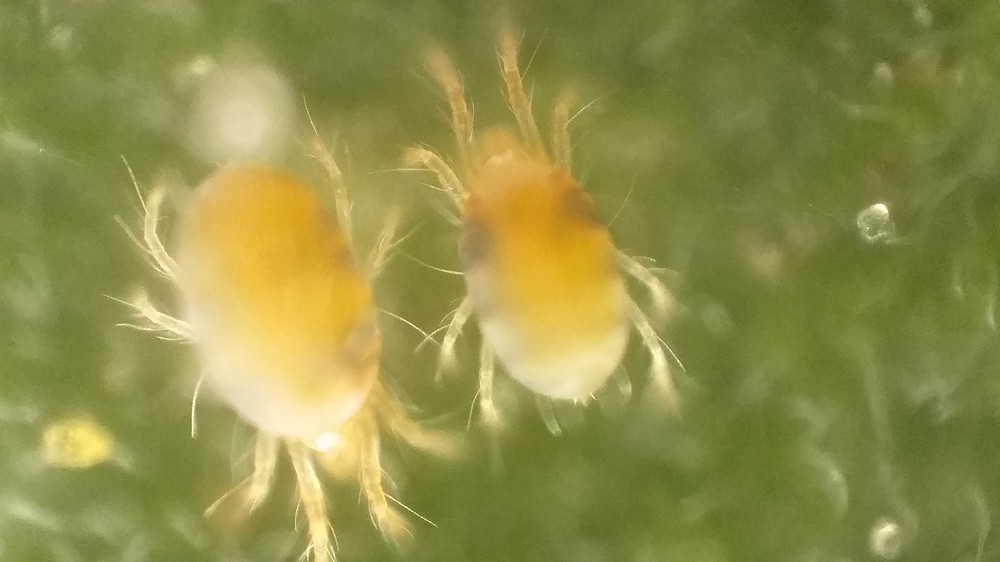Aracnido Rojo: (109, 133, 452, 556), (396, 35, 719, 449)
